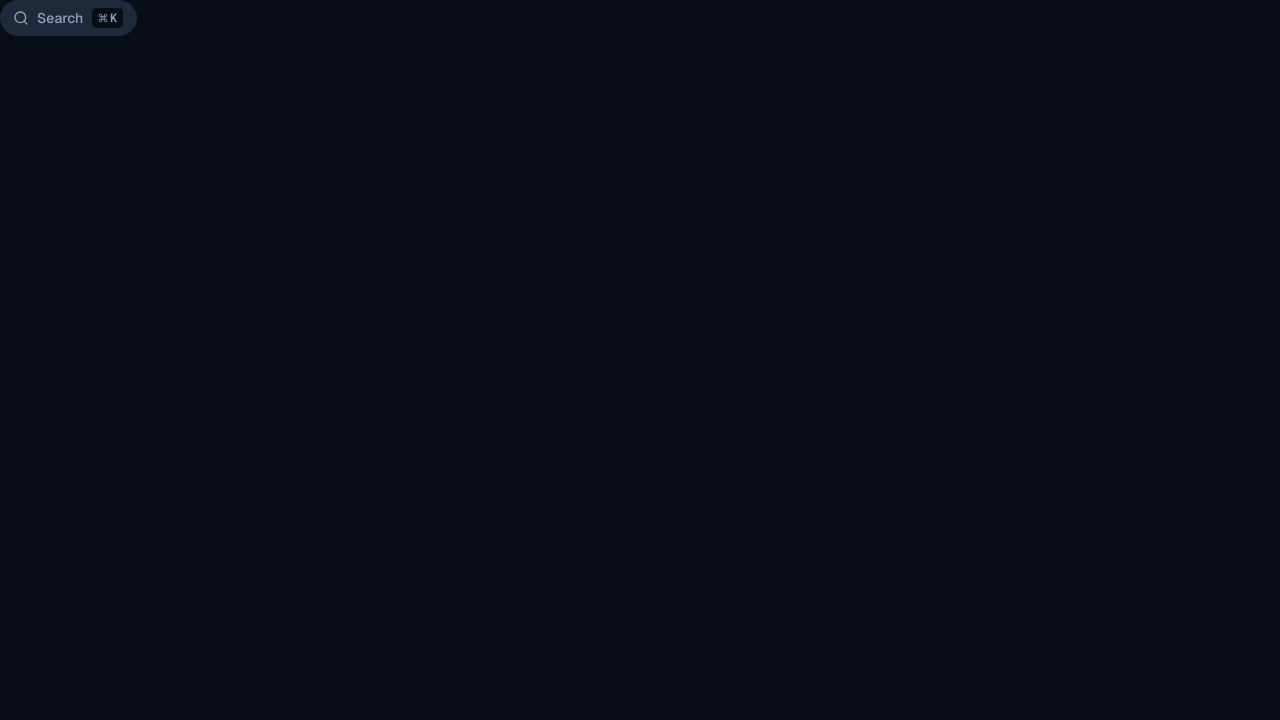
Test case: GlobalSearch › shows an empty state for a query with no matches
Press k
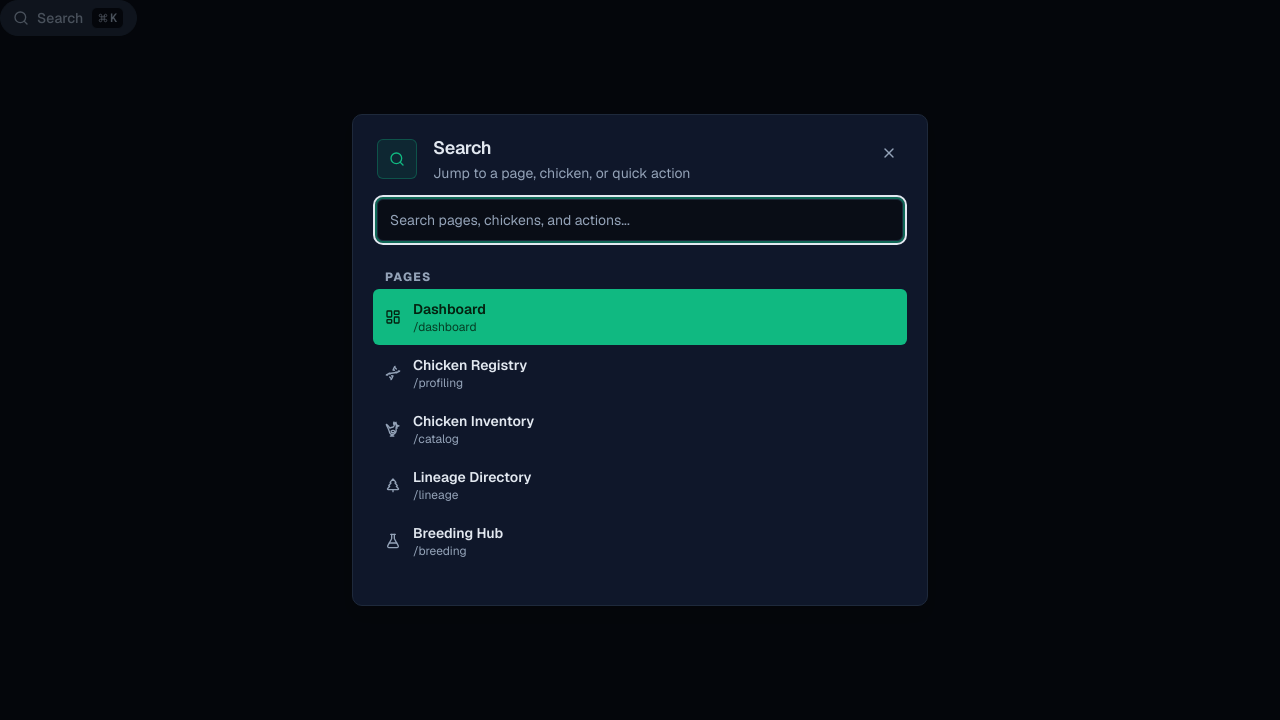
Type "zzzz" into the dropdown labelled "Search".
click(640, 220); type("zzzz")  # box [377, 199, 903, 241]
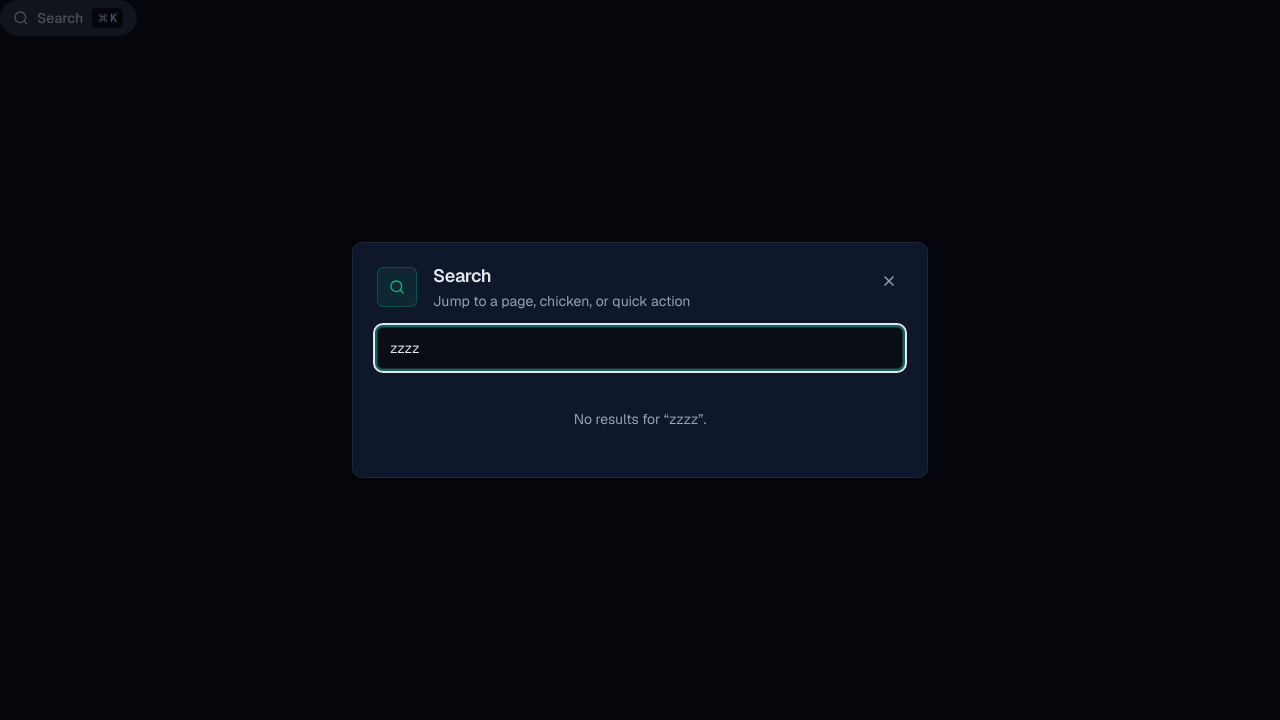
Now the message reads "No results for “zzzz”.", box [574, 410, 706, 428]
